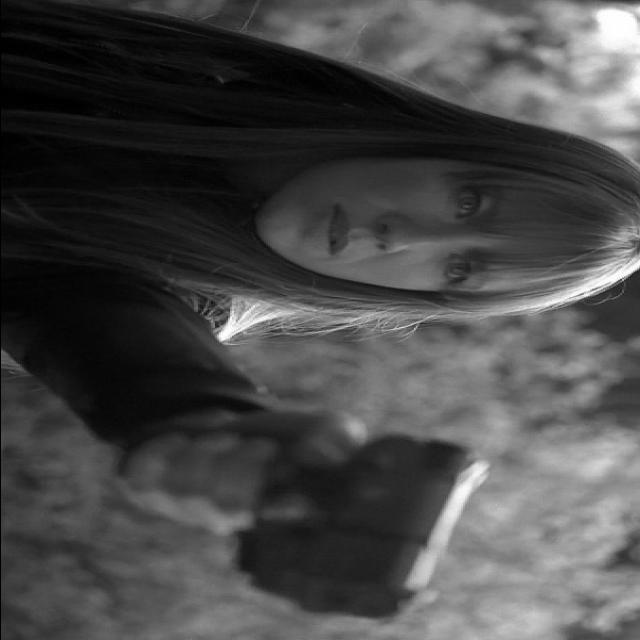weapons: (155, 423, 500, 628)
